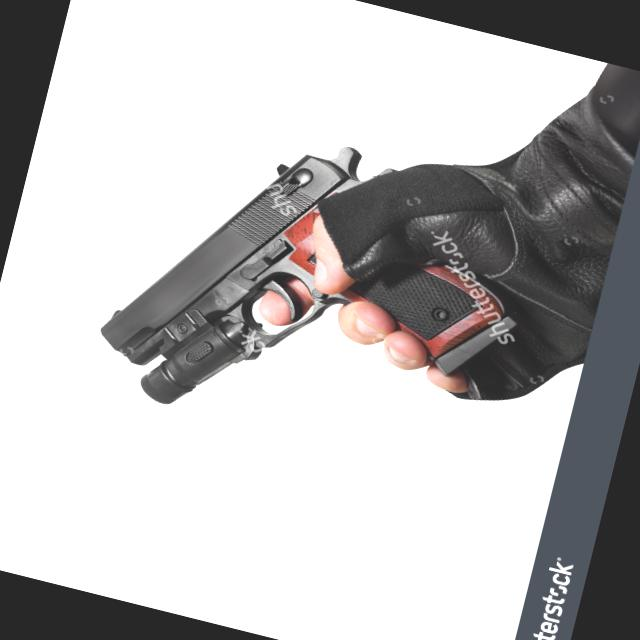handgun: (81, 92, 549, 484)
